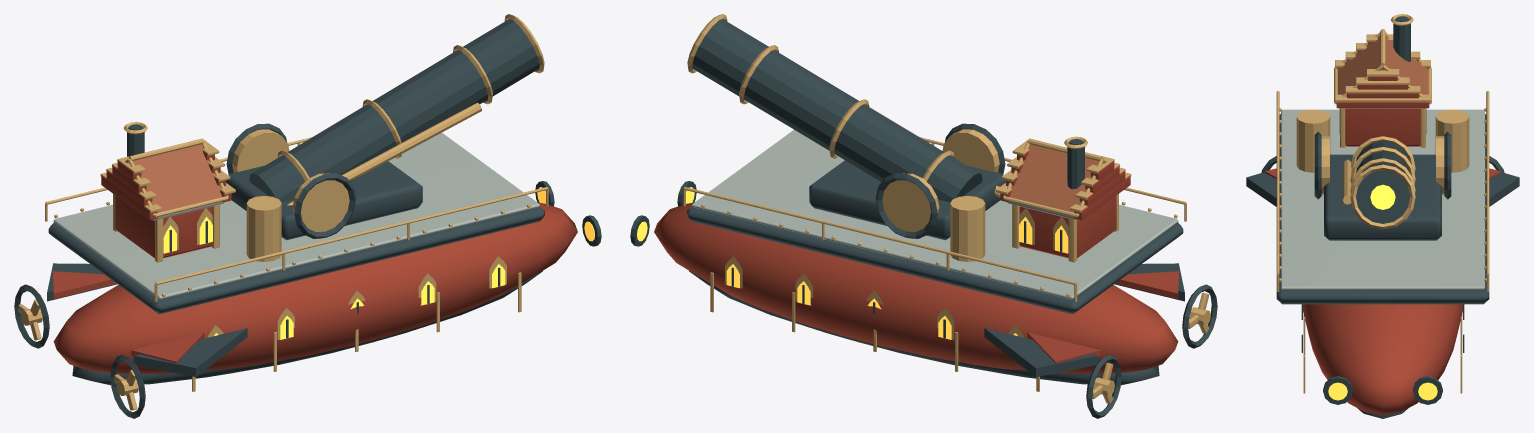
Rendered from enemy-artillery.glb.
3 views of the same model, side by side, from view 1: azimuth 30°, elevation 25°; view 2: azimuth 150°, elevation 25°; view 3: azimuth 270°, elevation 25° (orthographic). The views are drawn at different scales.
Parts seen in each view (by area): view 1: enemy-artillery / Paint | Hanseatic oxblood, enemy-artillery / Hull | charcoal iron, enemy-artillery / Paint | armored limestone, enemy-artillery / Fittings | worn maritime brass, Steep Hanseatic roof, enemy-artillery / Lamp | furnace amber; view 2: enemy-artillery / Hull | charcoal iron, enemy-artillery / Paint | Hanseatic oxblood, enemy-artillery / Paint | armored limestone, enemy-artillery / Fittings | worn maritime brass, Steep Hanseatic roof, enemy-artillery / Lamp | furnace amber; view 3: enemy-artillery / Paint | armored limestone, enemy-artillery / Paint | Hanseatic oxblood, enemy-artillery / Hull | charcoal iron, enemy-artillery / Fittings | worn maritime brass, Steep Hanseatic roof, enemy-artillery / Lamp | furnace amber.
Boxes of the visible parts, x1,y1,x2,y2 form: enemy-artillery / Paint | Hanseatic oxblood: [52, 151, 577, 374]; enemy-artillery / Hull | charcoal iron: [14, 19, 601, 418]; enemy-artillery / Paint | armored limestone: [53, 132, 539, 299]; enemy-artillery / Fittings | worn maritime brass: [18, 14, 548, 410]; Steep Hanseatic roof: [129, 144, 222, 212]; enemy-artillery / Lamp | furnace amber: [163, 187, 594, 339]; enemy-artillery / Hull | charcoal iron: [630, 19, 1217, 418]; enemy-artillery / Paint | Hanseatic oxblood: [654, 151, 1179, 374]; enemy-artillery / Paint | armored limestone: [692, 129, 1178, 299]; enemy-artillery / Fittings | worn maritime brass: [683, 14, 1210, 403]; Steep Hanseatic roof: [1009, 144, 1102, 212]; enemy-artillery / Lamp | furnace amber: [637, 187, 1068, 339]; enemy-artillery / Paint | armored limestone: [1281, 108, 1484, 289]; enemy-artillery / Paint | Hanseatic oxblood: [1264, 42, 1501, 414]; enemy-artillery / Hull | charcoal iron: [1246, 16, 1519, 418]; enemy-artillery / Fittings | worn maritime brass: [1276, 14, 1489, 393]; Steep Hanseatic roof: [1337, 35, 1428, 94]; enemy-artillery / Lamp | furnace amber: [1328, 184, 1437, 400].
Size of the model in its own units: 9.54 by 4.89 by 4.56.
